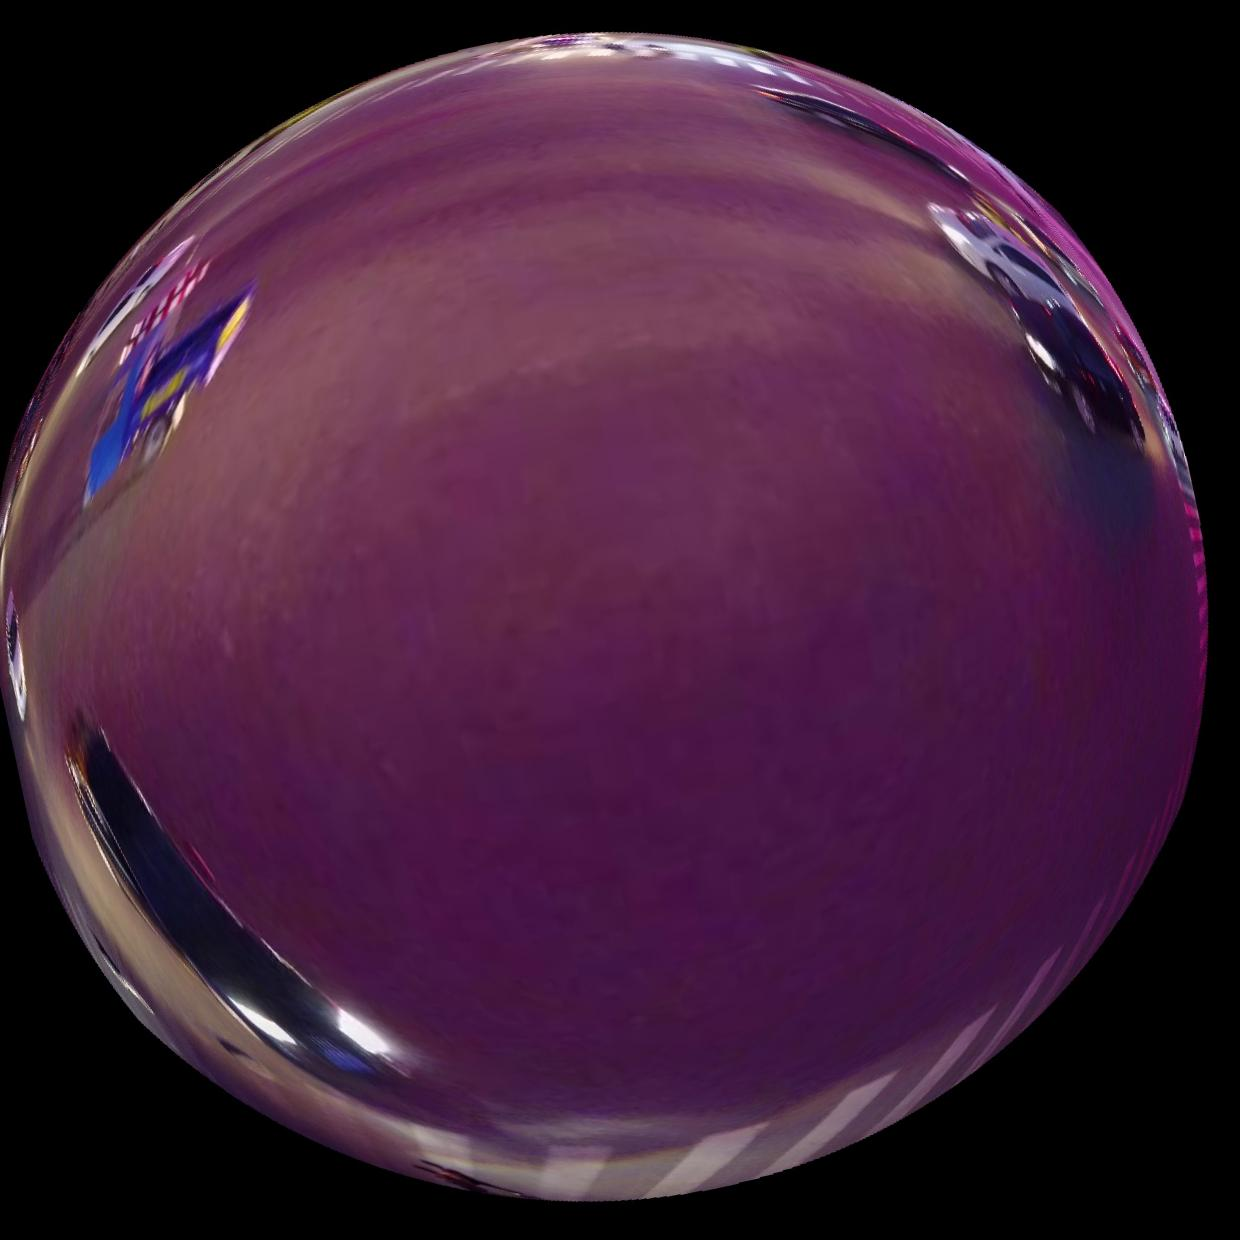cars: (66, 729, 400, 1087), (83, 287, 252, 503), (988, 261, 1146, 442), (930, 203, 1074, 310)
